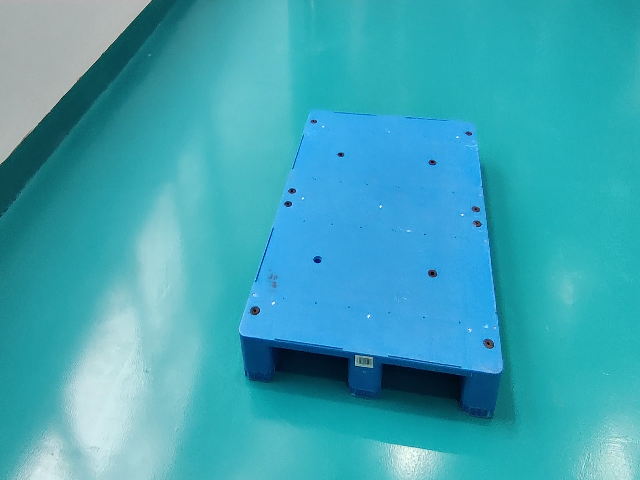block: (460, 368, 500, 422), (343, 352, 382, 399), (240, 337, 272, 378)
front: (240, 337, 501, 423)
hole pallet: (378, 364, 465, 406), (273, 346, 348, 385)
